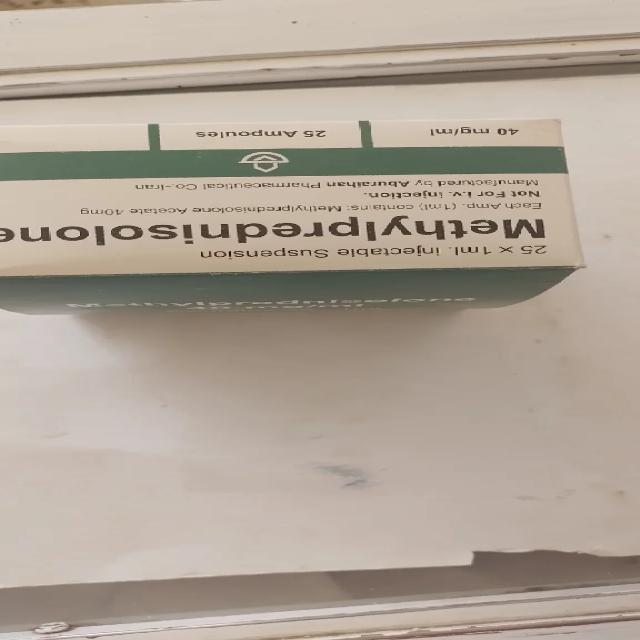drug-name: (0, 214, 546, 240)
